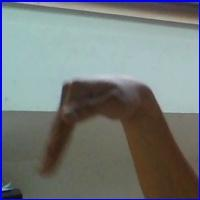A: (18, 69, 162, 180)
